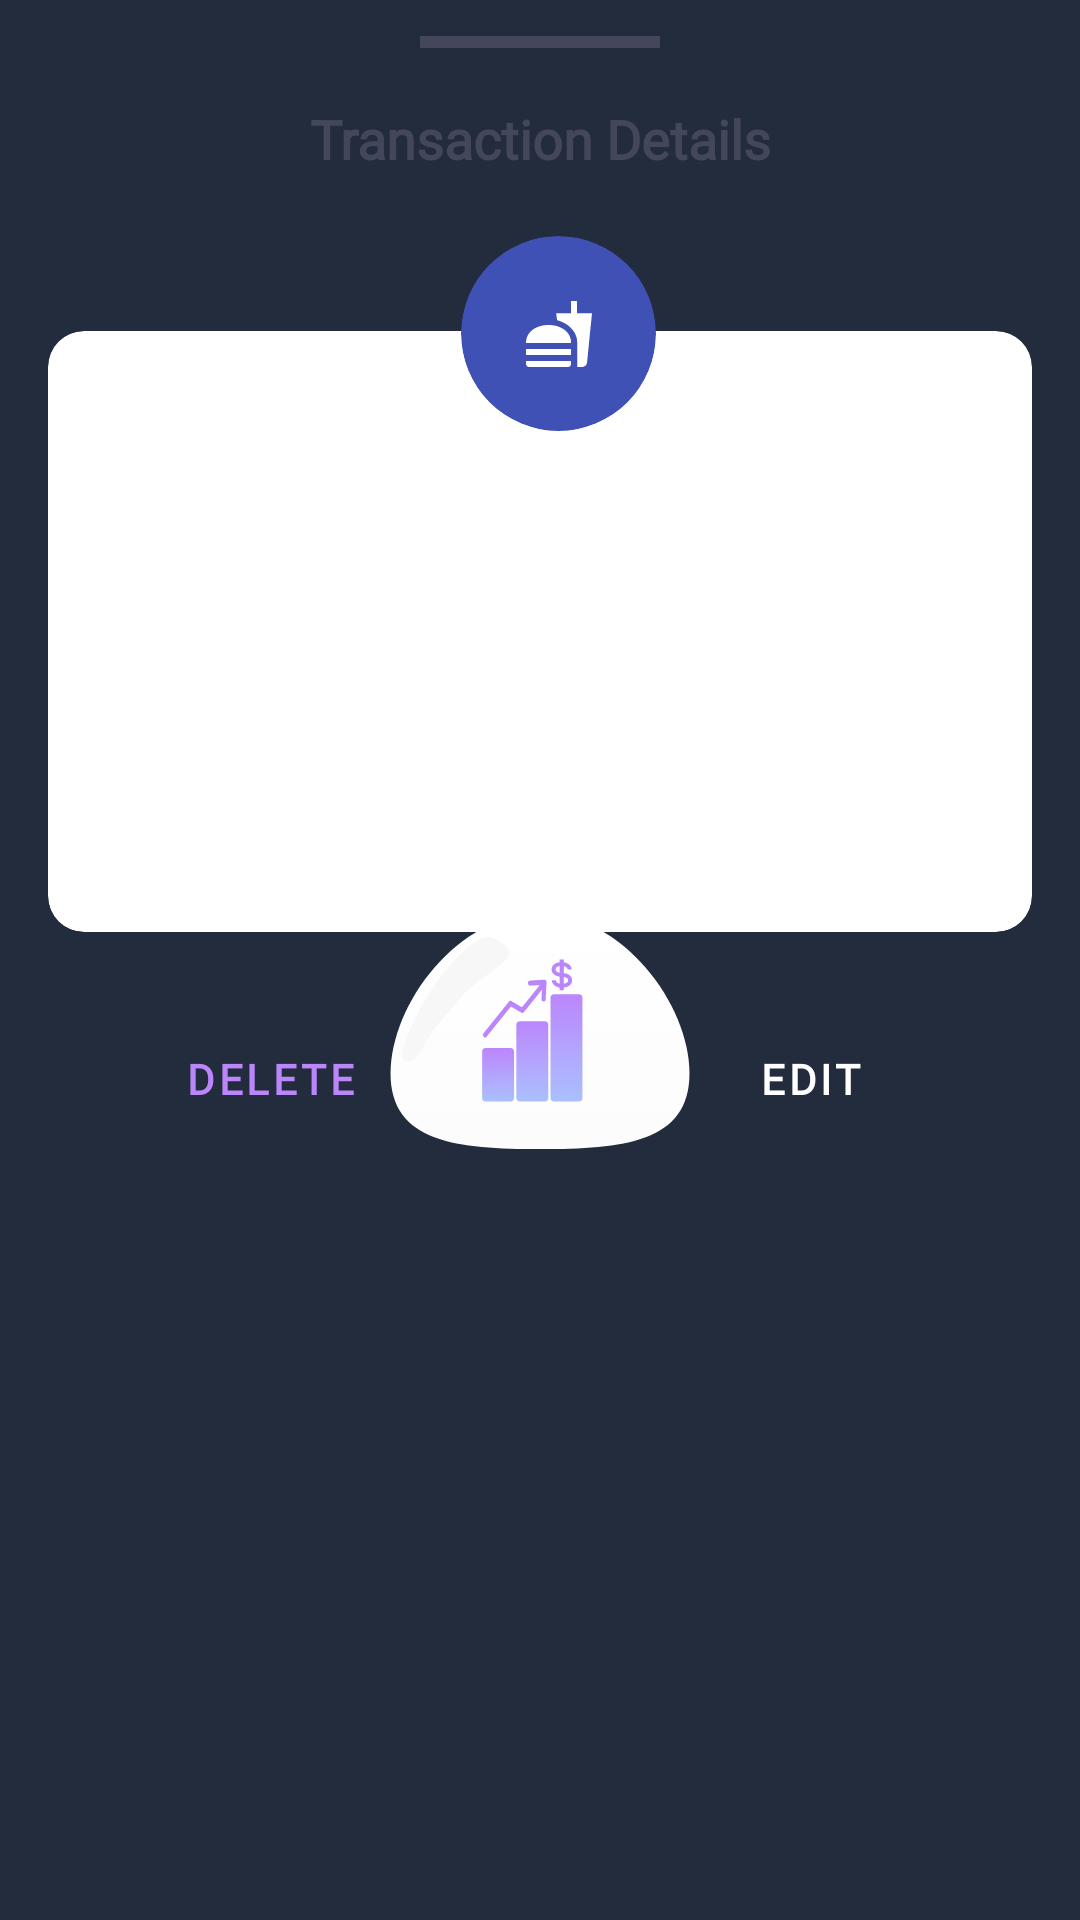

Named icons in this screenshot (1080x1920) and their centers, point (x, y):
fastfood: point (559, 334)
